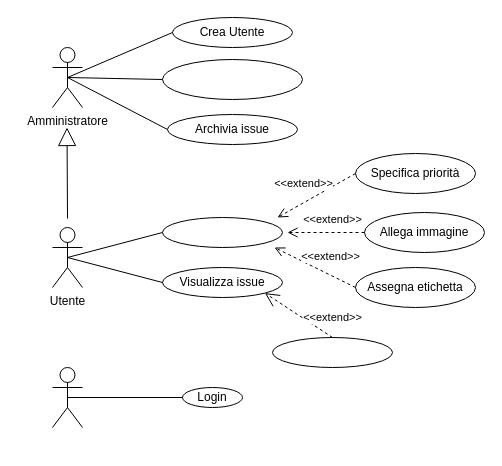
Some shapes in this 502 by 466 pixel diagram are drawn without their labels. The shapes that lost their labels are listed below. From the top down, each one's centre as x and y in pixels, then its label:
At point 232,79: "Visualizza dashboard".
At point 222,232: "Creazione issue".
At point 332,352: "Filtra issue".
At point 67,397: "Utente non loggato".
